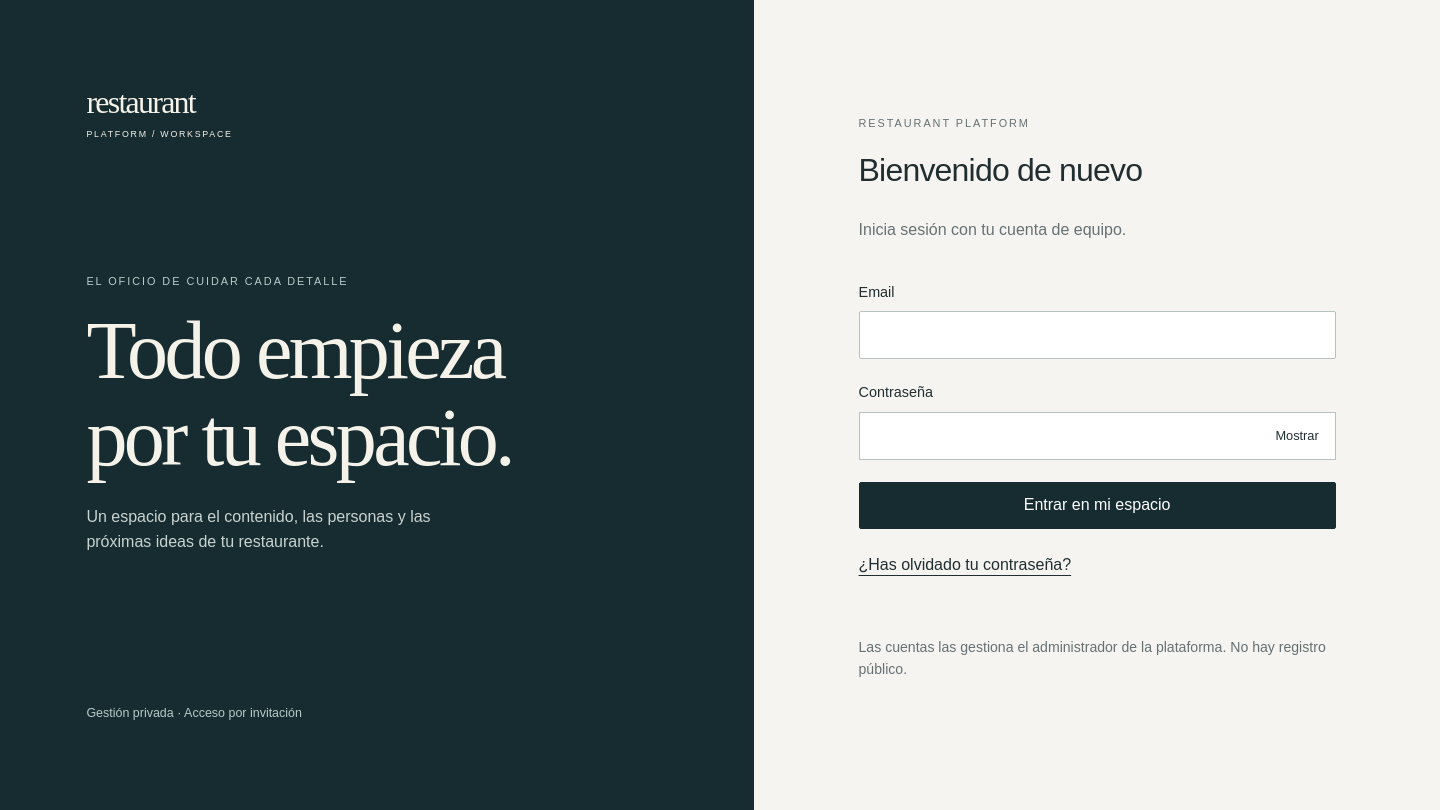
Test: Auth real en servicios; interfaz con mocks › errores de credenciales no generan sesión simulada
The width and height of the screenshot is (1440, 810).
Type "owner@example.test" into the field labelled "Email" at (1097, 335), box x1=858 y1=311 x2=1336 y2=359
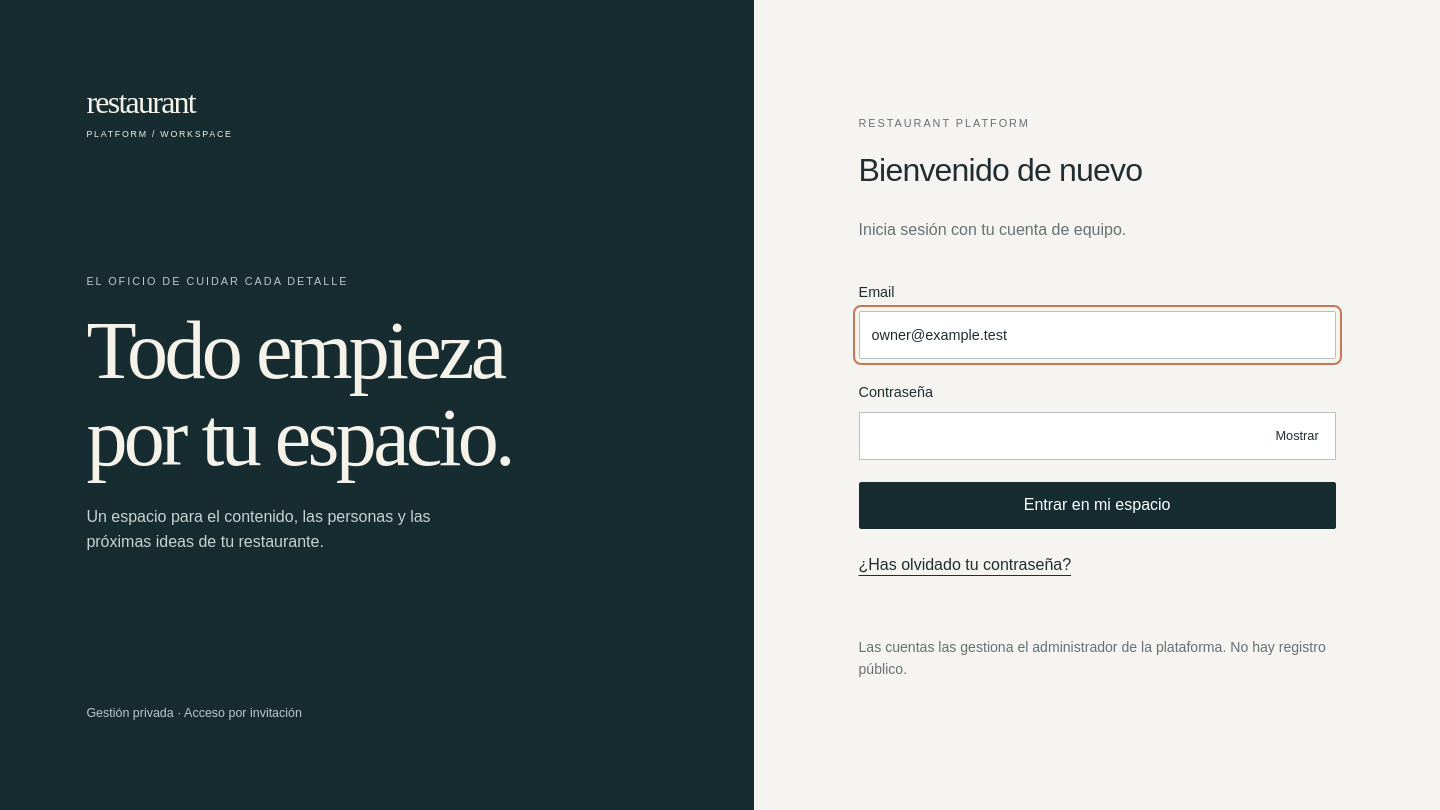
Type "bad" into the password field labelled "Contraseña" at (1059, 436), box x1=860 y1=413 x2=1259 y2=459
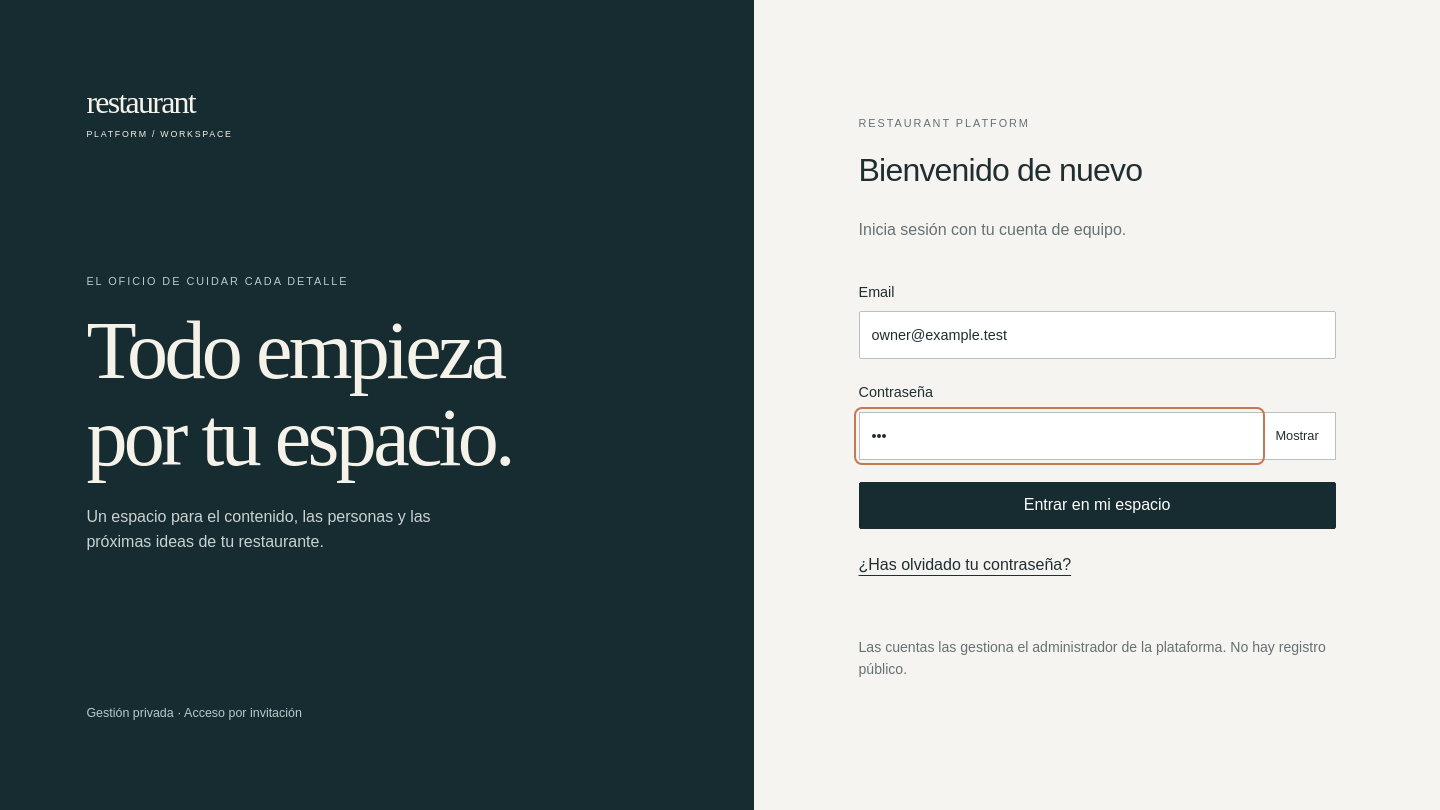
Click the button "Entrar en mi espacio" at (1097, 505), box x1=858 y1=482 x2=1336 y2=529
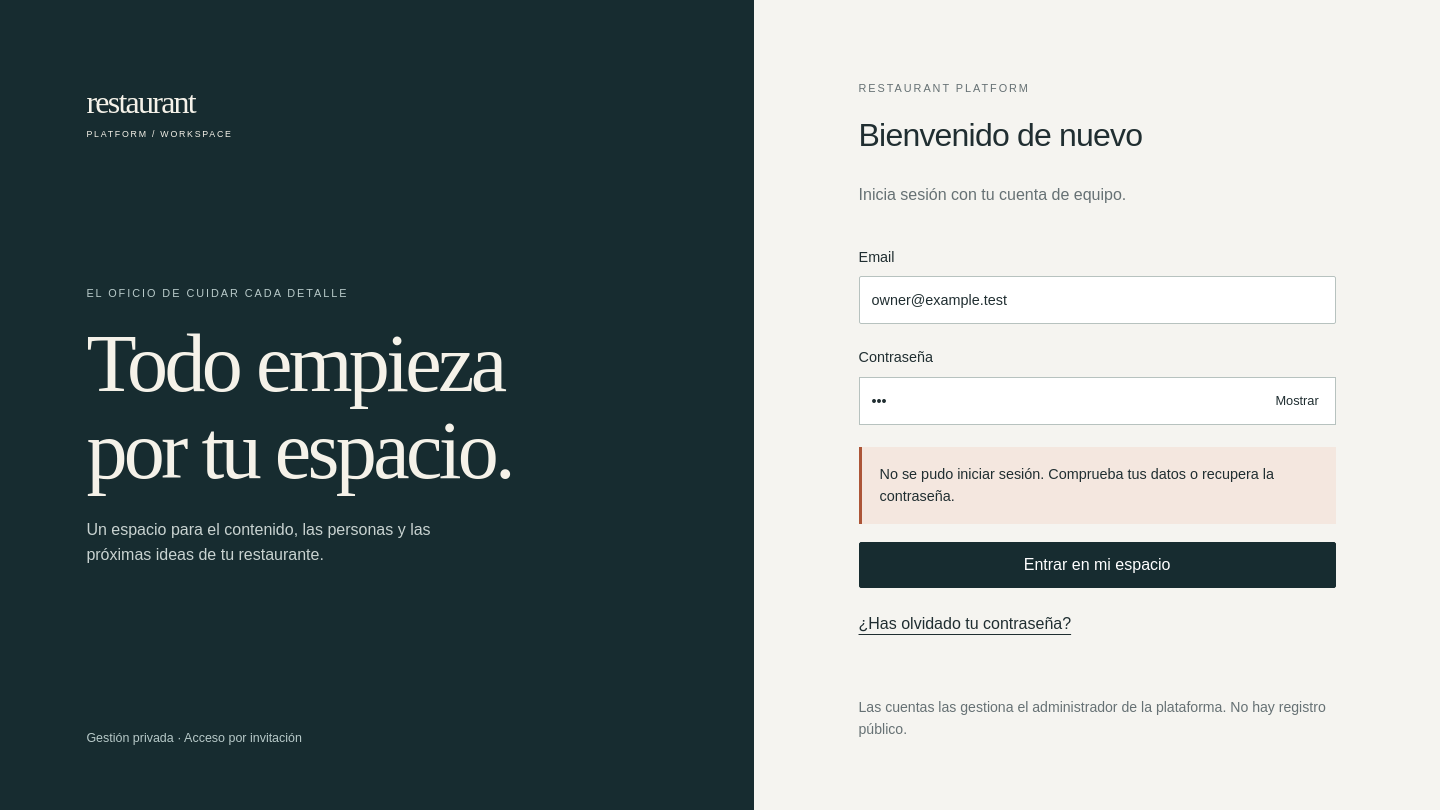
Expected: the message shows "No se pudo iniciar sesión", x1=880 y1=466 x2=1274 y2=504
